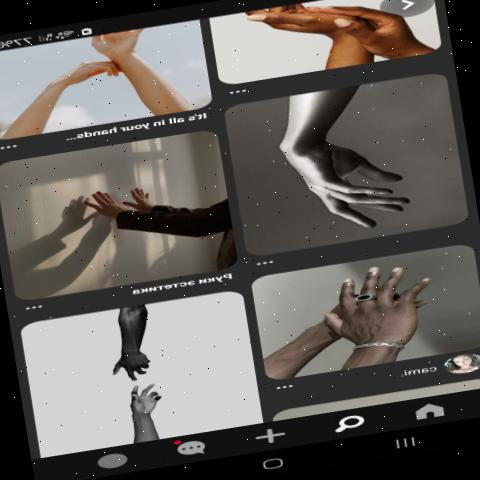Hands: (277, 88, 414, 244), (294, 255, 453, 362), (112, 373, 173, 430), (45, 57, 125, 98), (98, 346, 168, 384), (76, 184, 123, 240), (119, 174, 162, 222)
